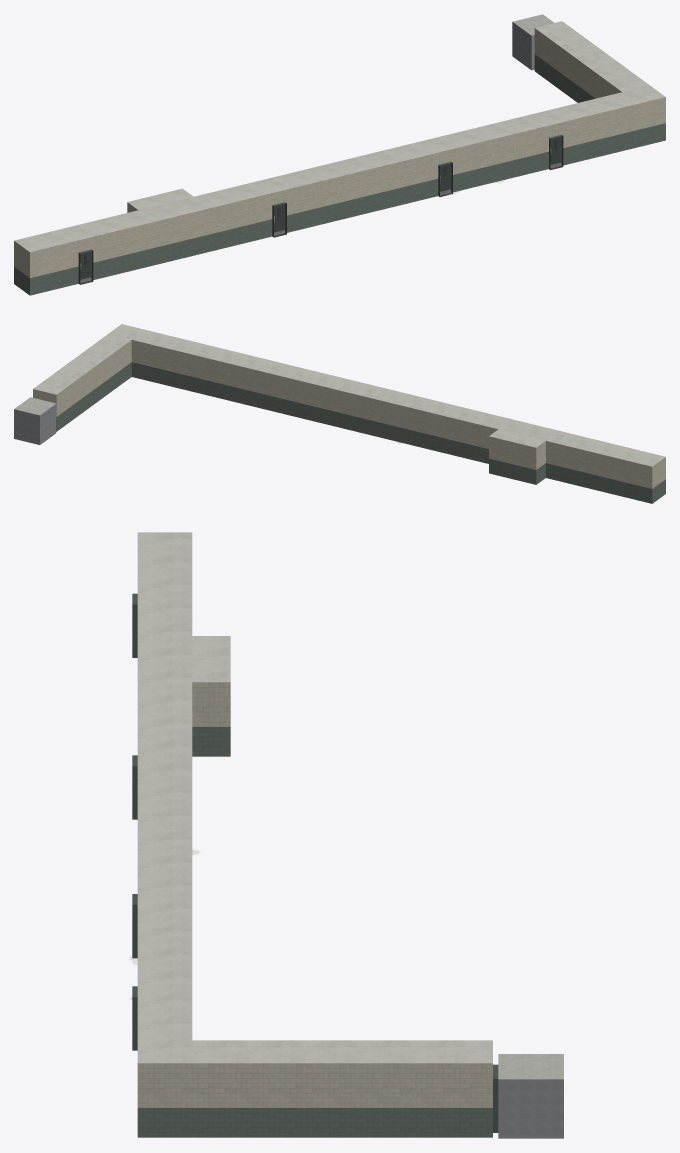
The model's file is service_corridor.glb.
3 renders of one model, top to bottom at view 1: azimuth 30°, elevation 25°; view 2: azimuth 150°, elevation 25°; view 3: azimuth 270°, elevation 25°, orthographic. The views are drawn at different scales.
Visible parts, largest first — view 1: X_Skin_Block_Paint, X_Skin_Soffit_Paint, X_Skin_Block_Dado, X_Skin_Car_Steel, X_Skin_Jamb_Paint, X_Skin_Car_Ceiling; view 2: X_Skin_Block_Paint, X_Skin_Soffit_Paint, X_Skin_Block_Dado, X_Skin_Car_Steel, X_Skin_Car_Ceiling; view 3: X_Skin_Soffit_Paint, X_Skin_Block_Paint, X_Skin_Block_Dado, X_Skin_Car_Steel, X_Skin_Jamb_Paint, X_Skin_Car_Ceiling.
Boxes of the visible parts, x1,y1,x2,y2 form: X_Skin_Block_Paint: [14, 28, 665, 278]; X_Skin_Soffit_Paint: [14, 21, 665, 252]; X_Skin_Block_Dado: [14, 54, 665, 295]; X_Skin_Car_Steel: [512, 22, 534, 70]; X_Skin_Jamb_Paint: [78, 134, 563, 284]; X_Skin_Car_Ceiling: [513, 14, 554, 35]; X_Skin_Block_Paint: [33, 340, 665, 488]; X_Skin_Soffit_Paint: [33, 324, 665, 466]; X_Skin_Block_Dado: [56, 362, 665, 503]; X_Skin_Car_Steel: [14, 404, 56, 444]; X_Skin_Car_Ceiling: [14, 397, 55, 415]; X_Skin_Soffit_Paint: [137, 532, 492, 1063]; X_Skin_Block_Paint: [137, 682, 492, 1107]; X_Skin_Block_Dado: [137, 727, 492, 1137]; X_Skin_Car_Steel: [498, 1079, 563, 1138]; X_Skin_Jamb_Paint: [132, 593, 498, 1132]; X_Skin_Car_Ceiling: [498, 1054, 563, 1079].
Bounding box in the file's own units: 46.1 × 3.02 × 16.4.
42 materials, 23 textured.
